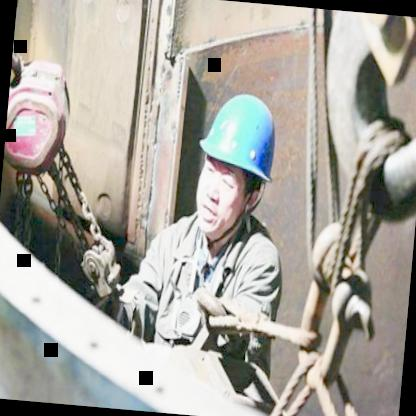helmet: (185, 70, 292, 254)
